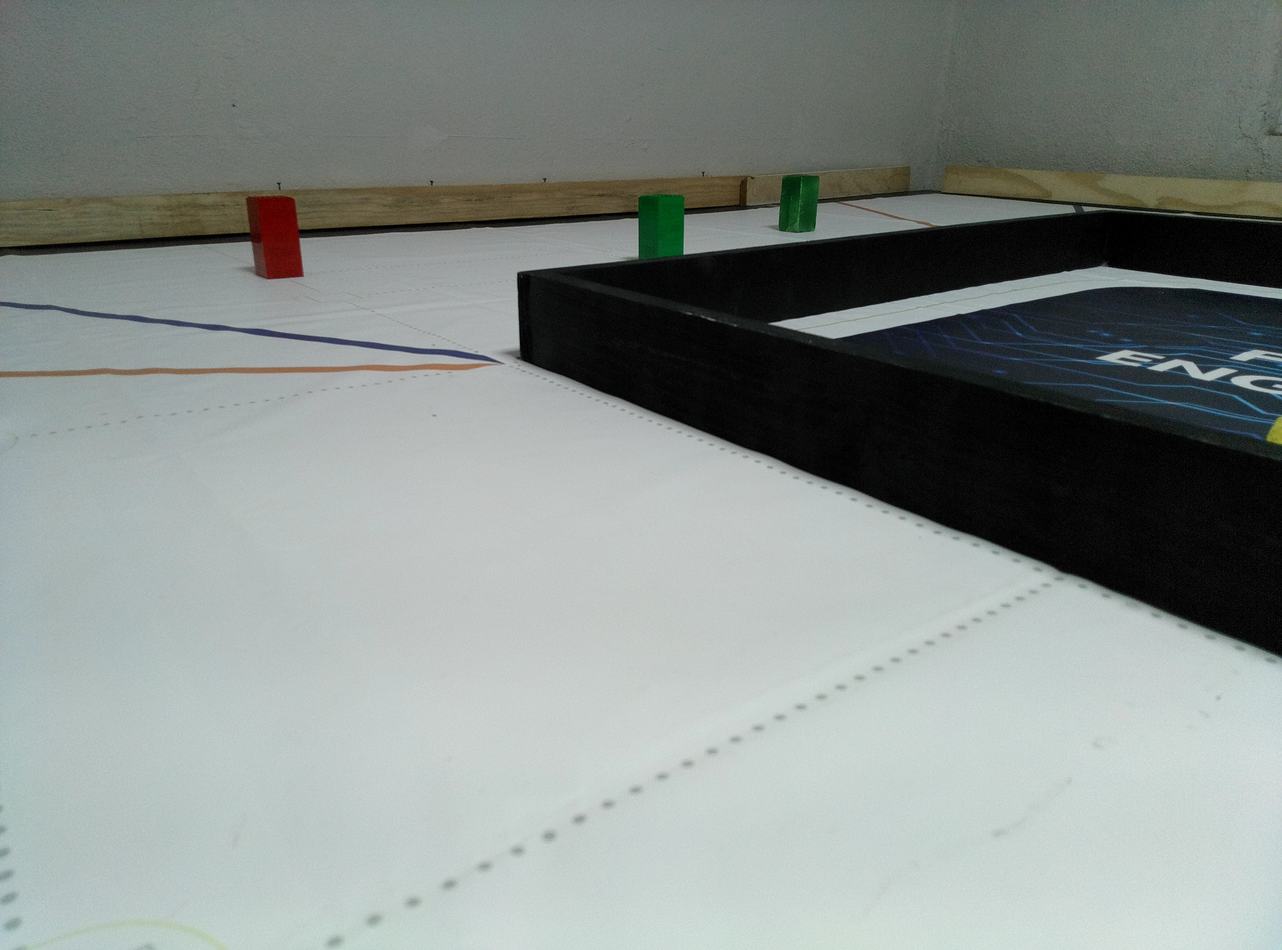greenbox: (638, 193, 684, 260), (778, 174, 820, 233)
redbox: (244, 194, 305, 281)
